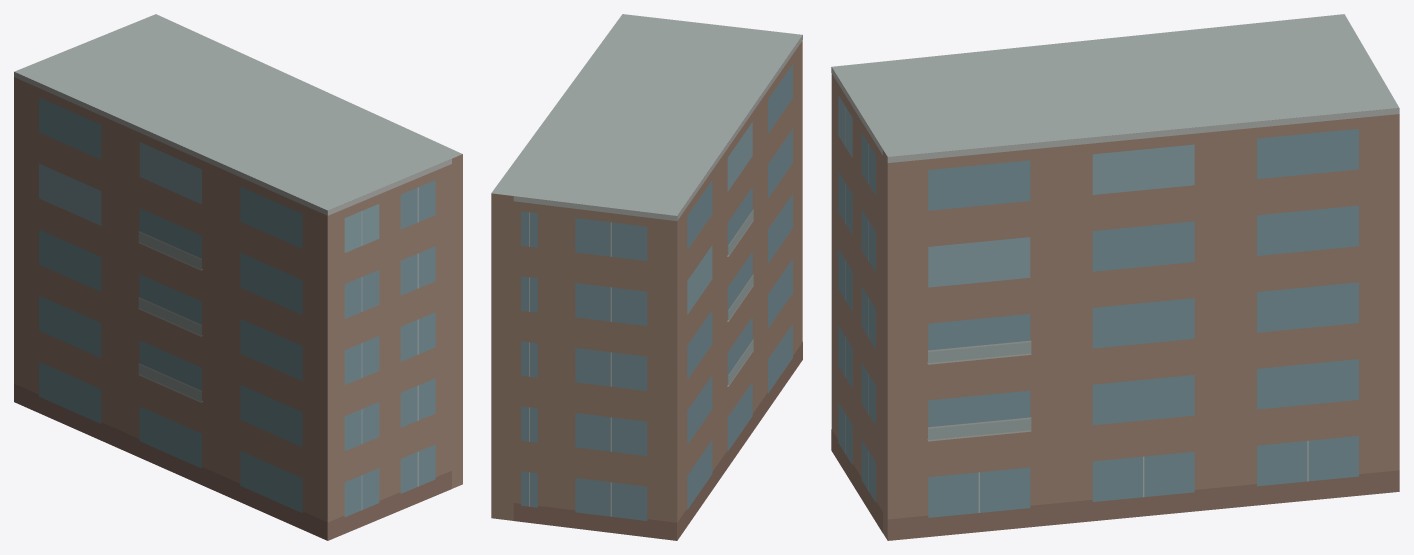
Rendered from survey-upis-32969370.glb.
3 renders of one model, left to right at view 1: azimuth 30°, elevation 25°; view 2: azimuth 150°, elevation 25°; view 3: azimuth 270°, elevation 25°, orthographic. The views are drawn at different scales.
Visible parts, largest first — view 1: survey-upis-32969370.tmp; view 2: survey-upis-32969370.tmp; view 3: survey-upis-32969370.tmp.
Part boxes in pixels (x1,y1,x2,y2): survey-upis-32969370.tmp: (14, 14, 462, 540); survey-upis-32969370.tmp: (491, 14, 802, 540); survey-upis-32969370.tmp: (831, 14, 1399, 540).
Bounding box in the file's own units: 12.19 × 15.25 × 20.45.
